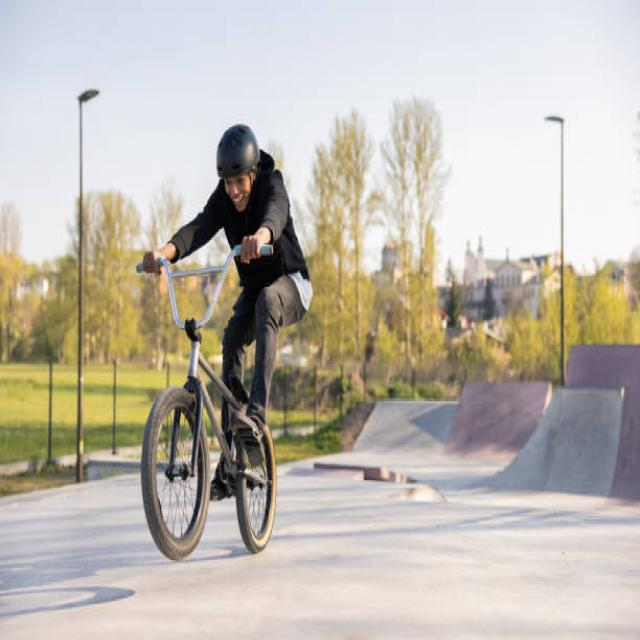bicycle: (138, 126, 311, 560)
